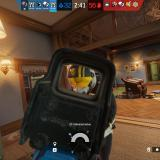Character: (64, 61, 117, 160)
Friend_label: (115, 86, 124, 92), (125, 88, 134, 93)
Head: (67, 64, 97, 96)
